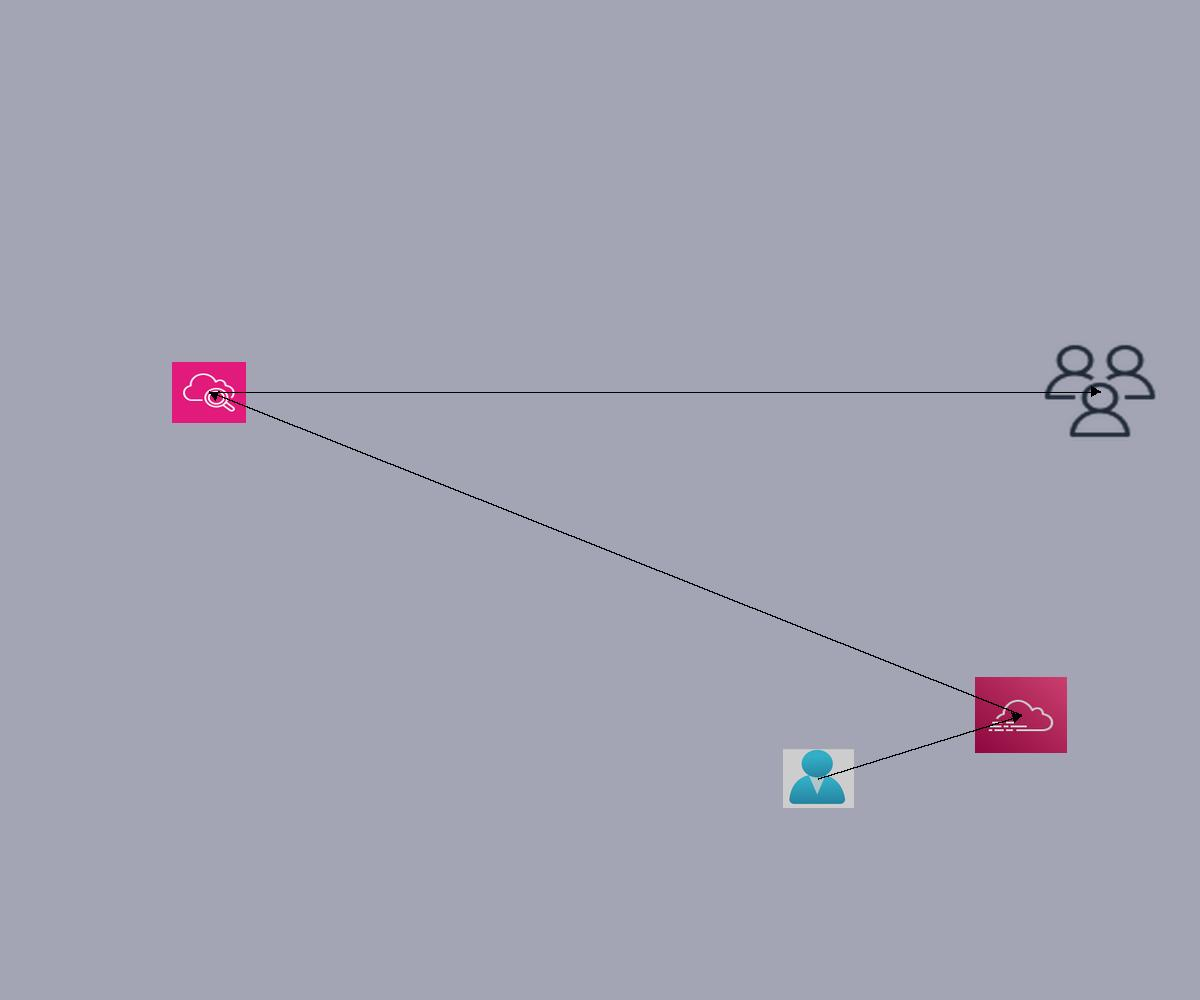AWS-CloudTrail: (975, 677, 1067, 753)
AWS-CloudWatch: (172, 362, 246, 423)
AWS-Res_Users: (1040, 341, 1160, 441)
Azure_users: (783, 749, 854, 808)
